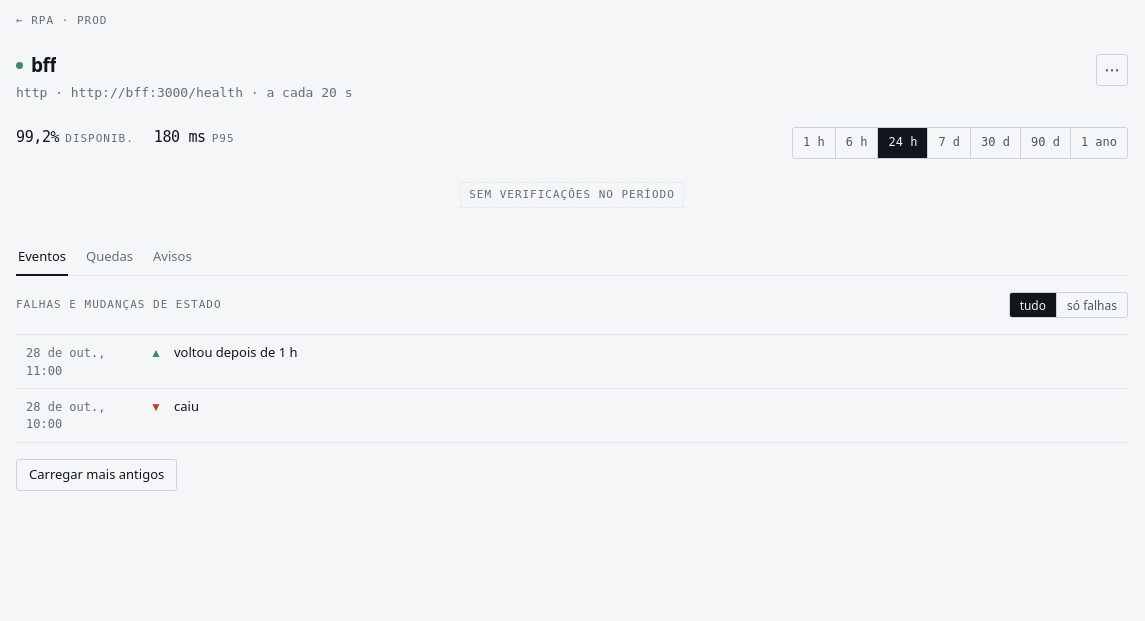
Test case: MonitorDetail: paginação dos eventos › segue o next_cursor de página em página até o fim
Click the button "Carregar mais antigos".
click(97, 475)  # box [16,459,177,491]
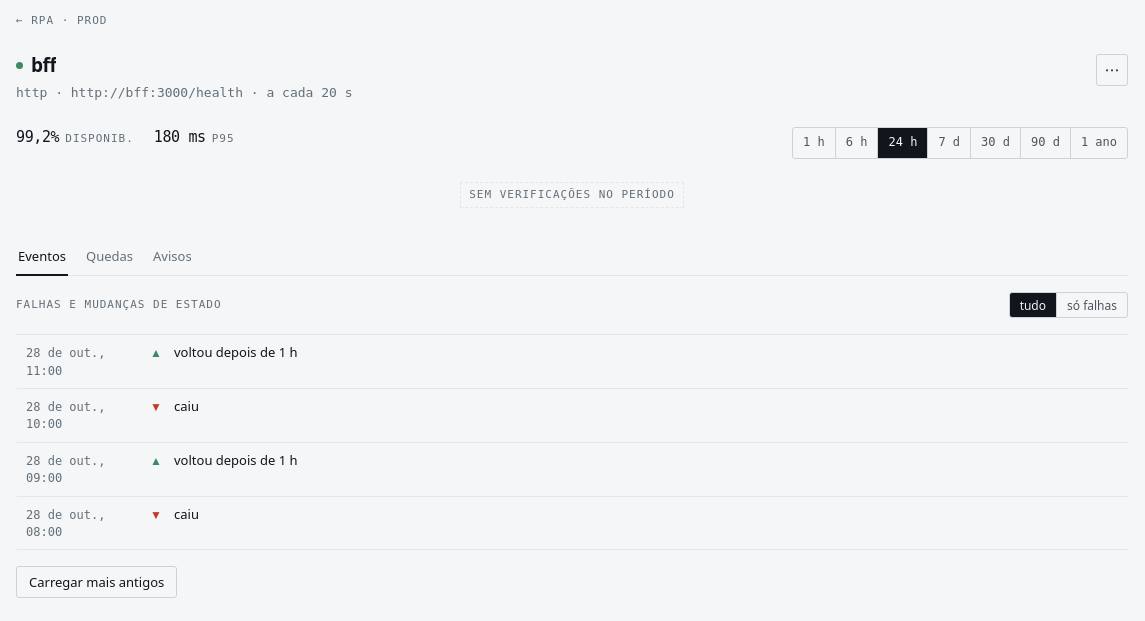
Click the button "Carregar mais antigos".
click(97, 582)  # box [16,566,177,598]
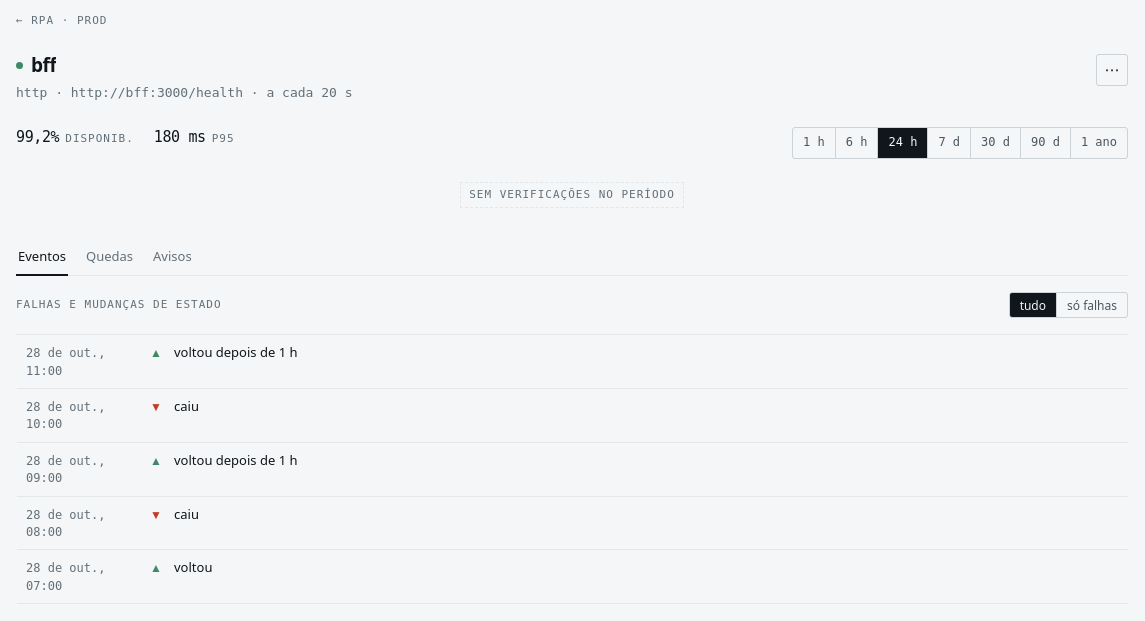
Check: the button "Carregar mais antigos" is gone
